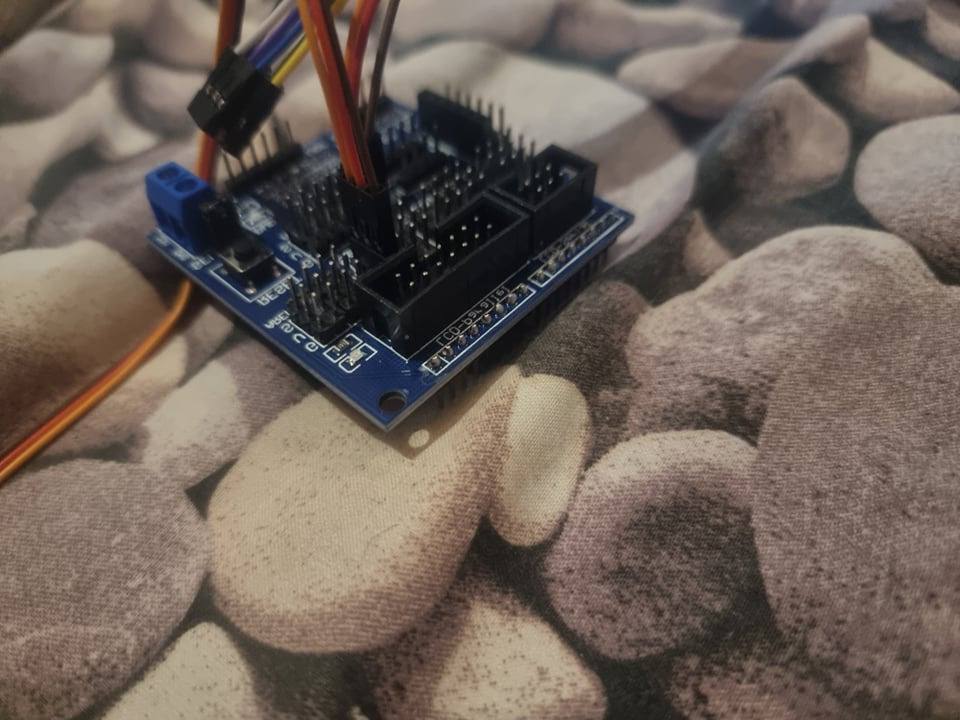5V EXPANSION: (145, 74, 638, 435)
